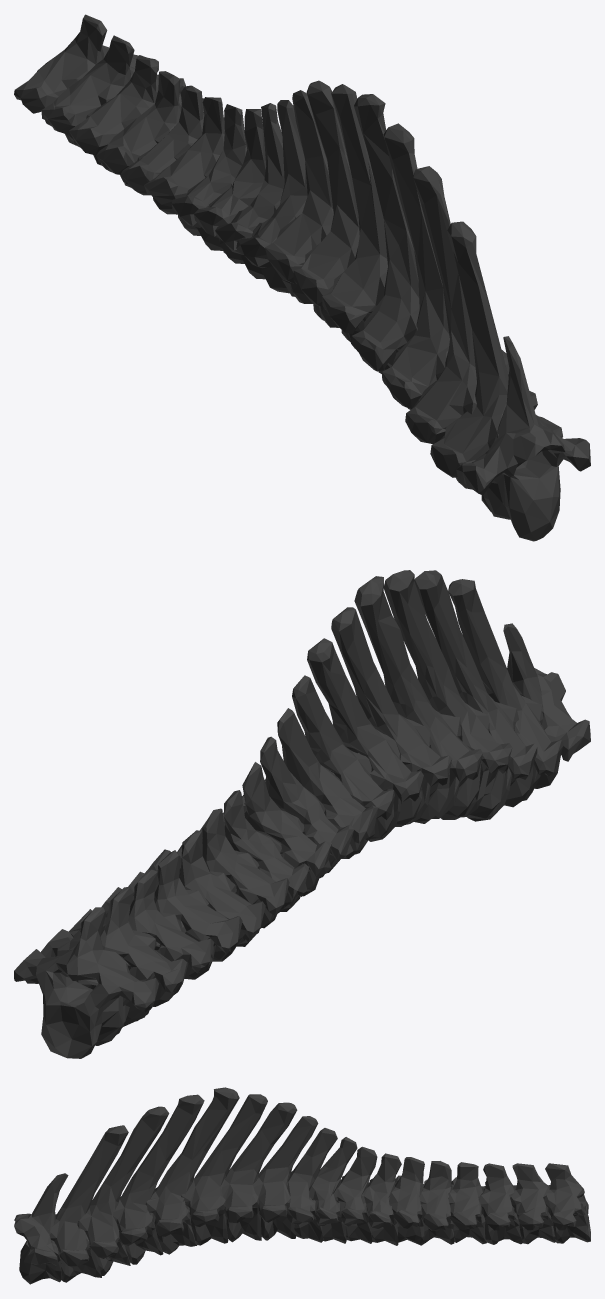
Rendered from skel_spine_thoracic.glb.
3 renders of one model, top to bottom at view 1: azimuth 30°, elevation 25°; view 2: azimuth 150°, elevation 25°; view 3: azimuth 270°, elevation 25°, orthographic. The views are drawn at different scales.
Parts seen in each view (by area): view 1: skel_spine_thoracic; view 2: skel_spine_thoracic; view 3: skel_spine_thoracic.
Boxes of the visible parts, x1,y1,x2,y2 form: skel_spine_thoracic: [14, 14, 590, 541]; skel_spine_thoracic: [14, 570, 590, 1058]; skel_spine_thoracic: [14, 1087, 590, 1284].
Bounding box in the file's own units: 0.00198 × 0.00455 × 0.0122.
1 material, 1 textured.
